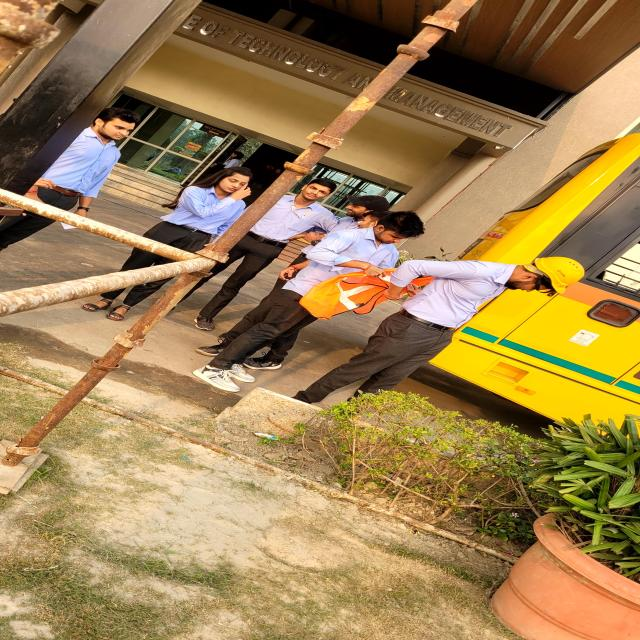no jacket: (304, 255, 594, 418)
unsafe: (213, 211, 433, 381), (85, 166, 261, 328), (169, 177, 341, 336), (0, 106, 154, 250)
